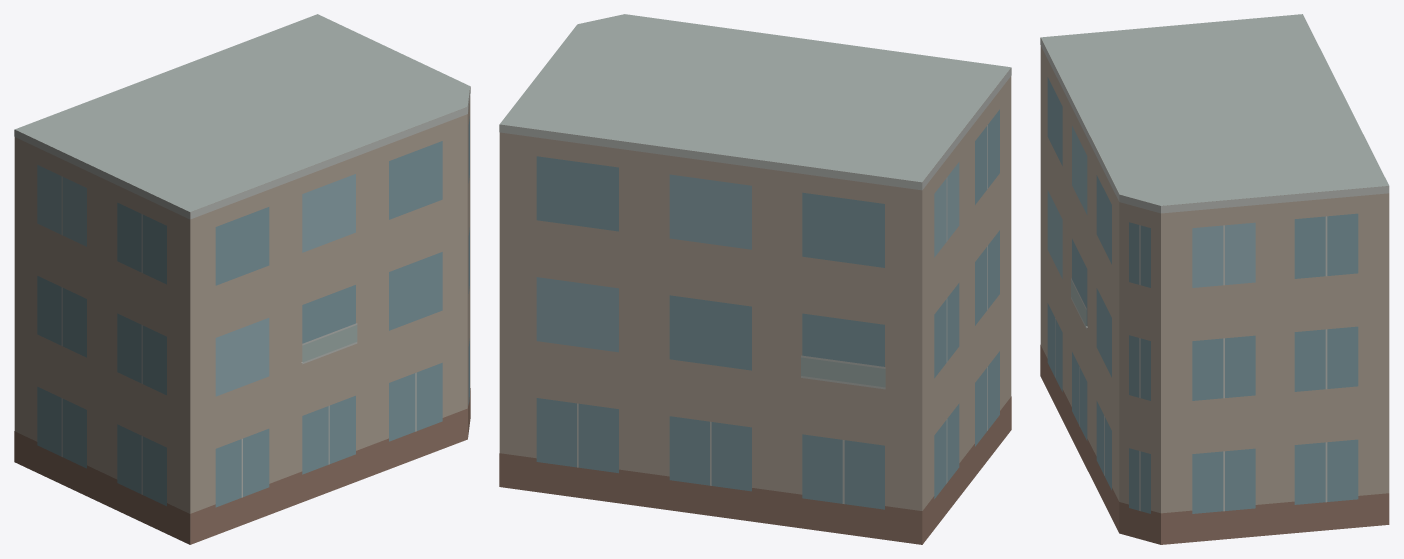
File: survey-upis-33011670.glb
3 views of the same model, side by side, from view 1: azimuth 30°, elevation 25°; view 2: azimuth 150°, elevation 25°; view 3: azimuth 270°, elevation 25° (orthographic). The views are drawn at different scales.
Visible parts, largest first — view 1: survey-upis-33011670.tmp; view 2: survey-upis-33011670.tmp; view 3: survey-upis-33011670.tmp.
Part boxes in pixels (<box>): survey-upis-33011670.tmp: <box>14,14,470,544</box>; survey-upis-33011670.tmp: <box>499,14,1011,544</box>; survey-upis-33011670.tmp: <box>1040,14,1389,544</box>.
Bounding box in the file's own units: 13.37 × 11 × 10.27.
